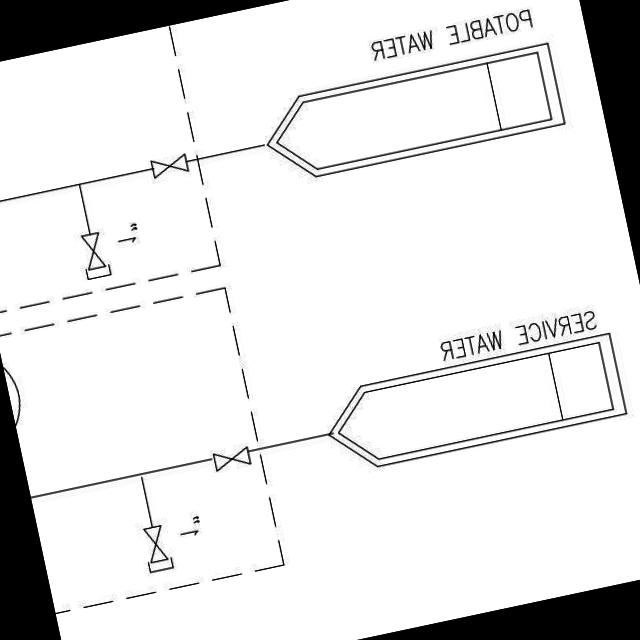EC: (126, 493, 180, 579), (66, 203, 118, 288)
GV: (205, 441, 258, 475), (144, 150, 193, 182), (78, 225, 110, 274), (140, 520, 170, 568)
